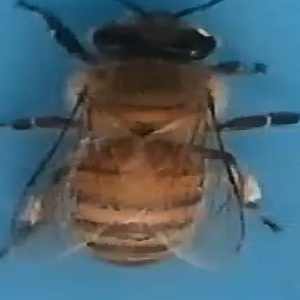bee: (12, 10, 295, 271)
